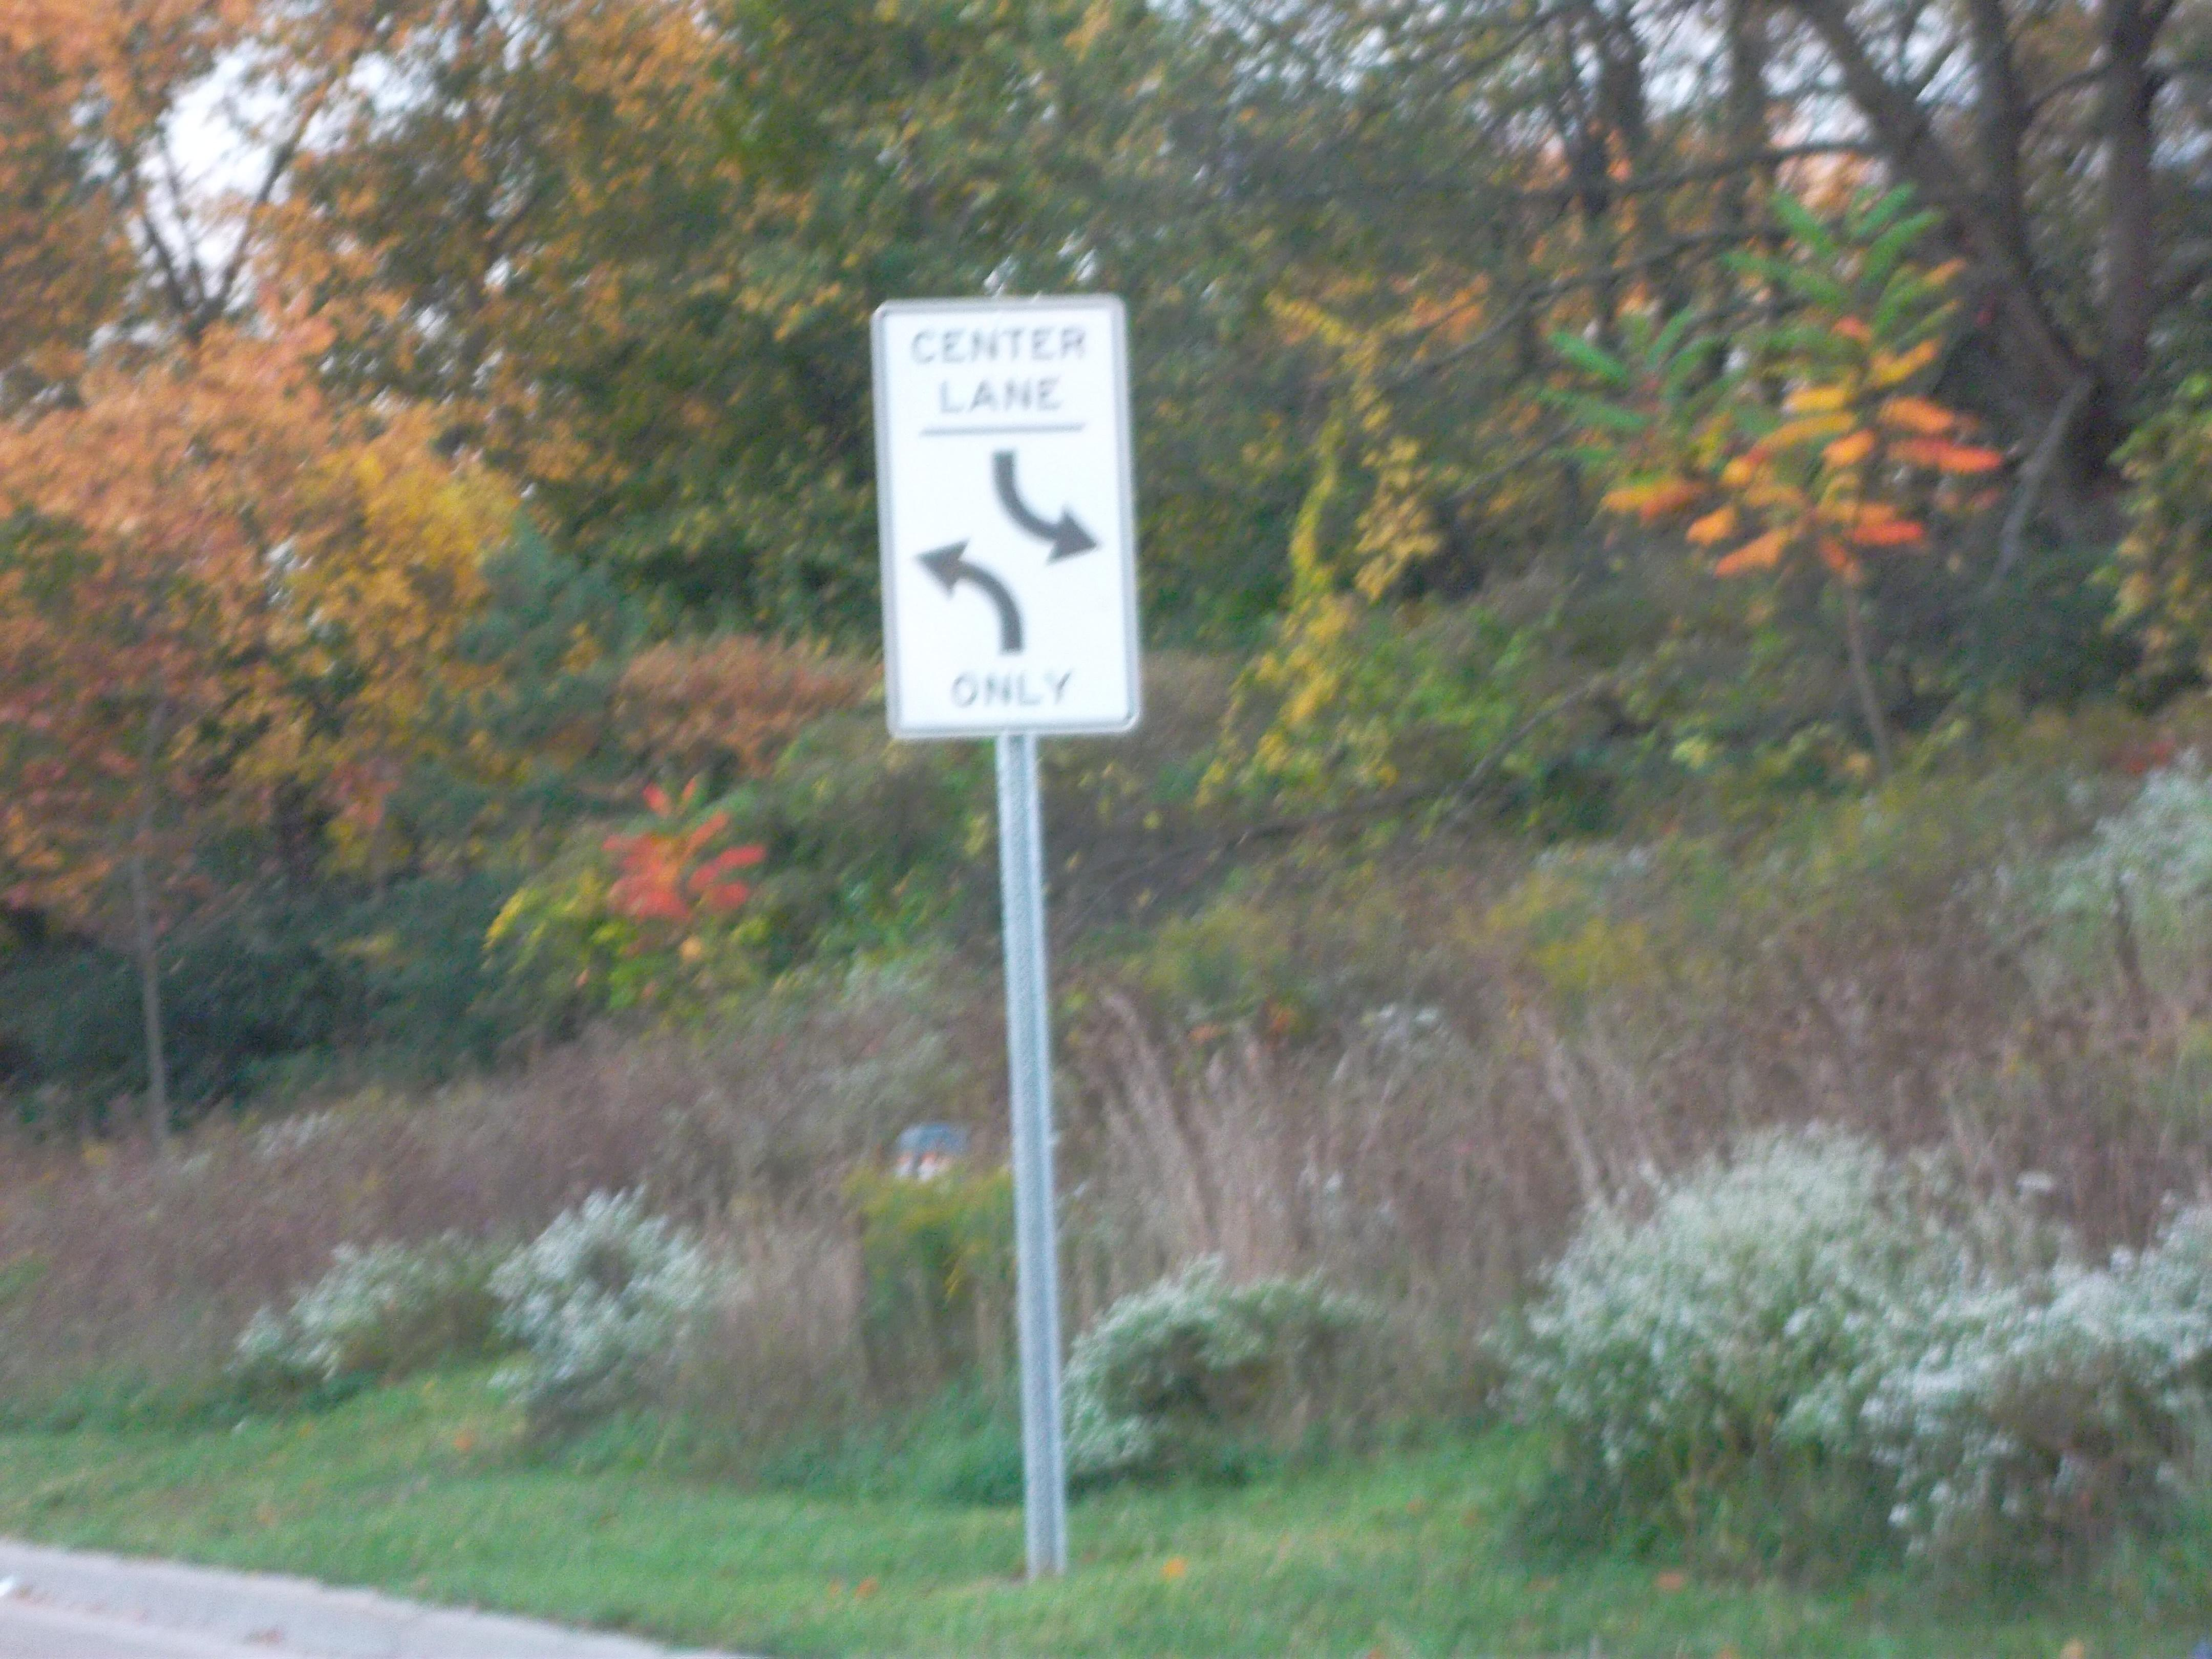regulatory: (864, 288, 1148, 746)
